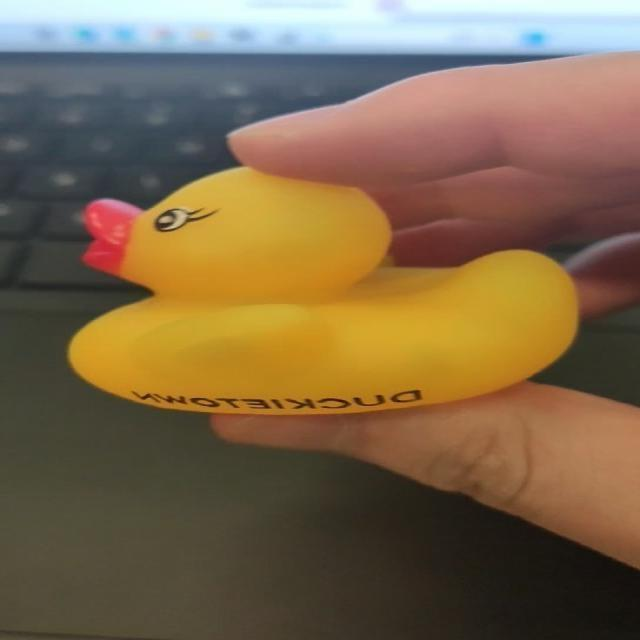rubber-duck: (68, 166, 576, 412)
